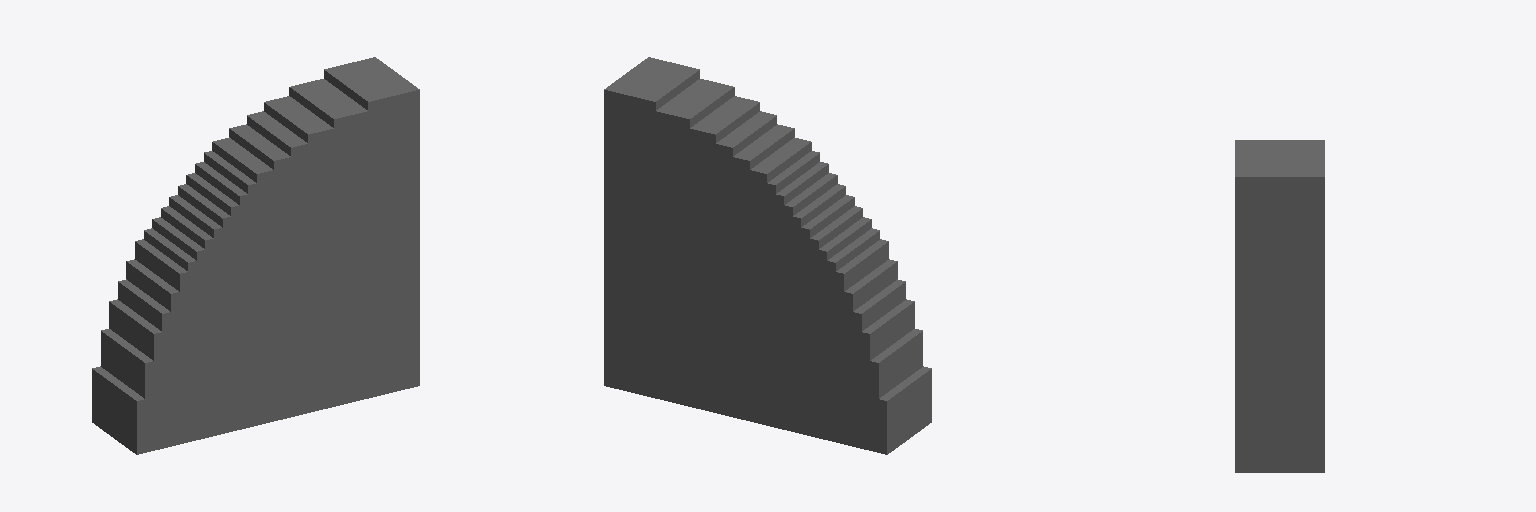
The picture shows the model from 3 angles: view 1: azimuth 30°, elevation 25°; view 2: azimuth 150°, elevation 25°; view 3: azimuth 270°, elevation 25°; orthographic projection.
Visible parts, largest first — view 1: dirtCornerCollider1; view 2: dirtCornerCollider1; view 3: dirtCornerCollider1.
Part boxes in pixels (x1,y1,x2,y2): dirtCornerCollider1: (92, 57, 419, 454); dirtCornerCollider1: (604, 57, 931, 454); dirtCornerCollider1: (1235, 140, 1324, 472).
Bounding box in the file's own units: 33 × 33 × 9.
1 materials, 1 textured.